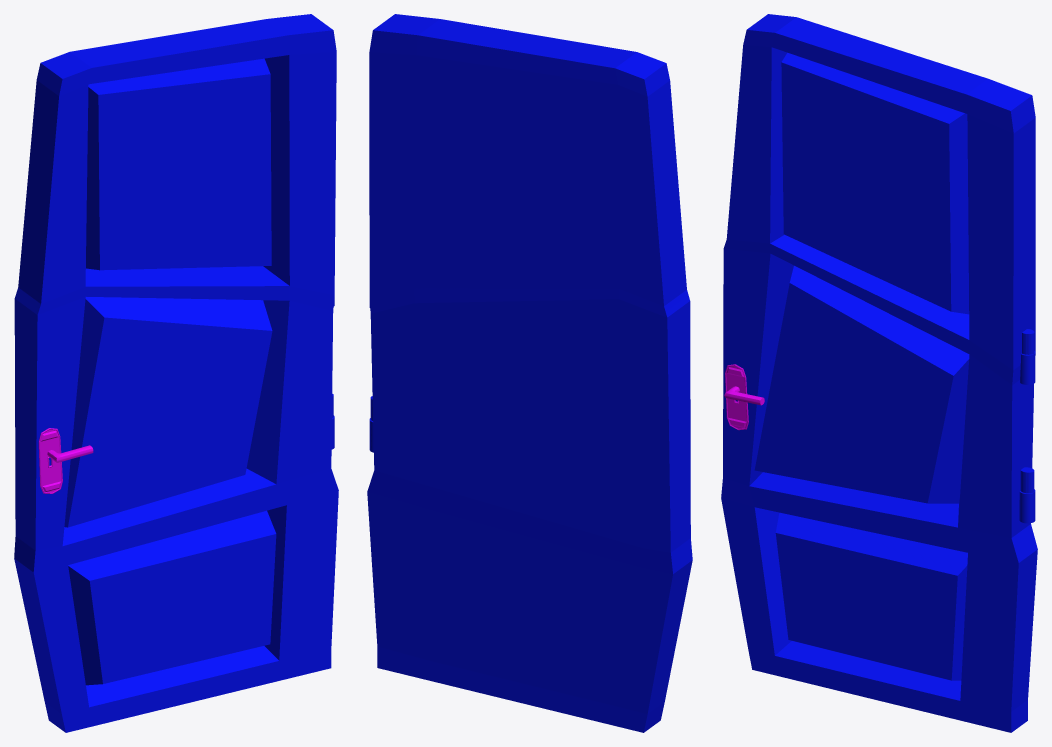
File: DOOR_RIGHT.fbx
3 views of the same model, side by side, from view 1: azimuth 30°, elevation 25°; view 2: azimuth 150°, elevation 25°; view 3: azimuth 330°, elevation 25° (orthographic). The views are drawn at different scales.
Parts seen in each view (by area): view 1: Object001; view 2: Object001; view 3: Object001.
Boxes of the visible parts, x1,y1,x2,y2 form: Object001: [14, 14, 338, 732]; Object001: [367, 14, 692, 732]; Object001: [721, 14, 1037, 732].
Size of the model in its own units: 46.39 by 94.15 by 8.29.
